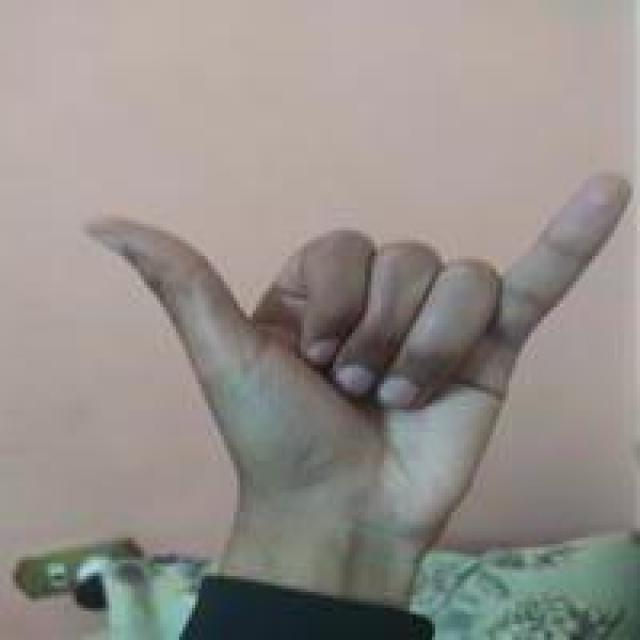Y: (80, 164, 637, 518)
